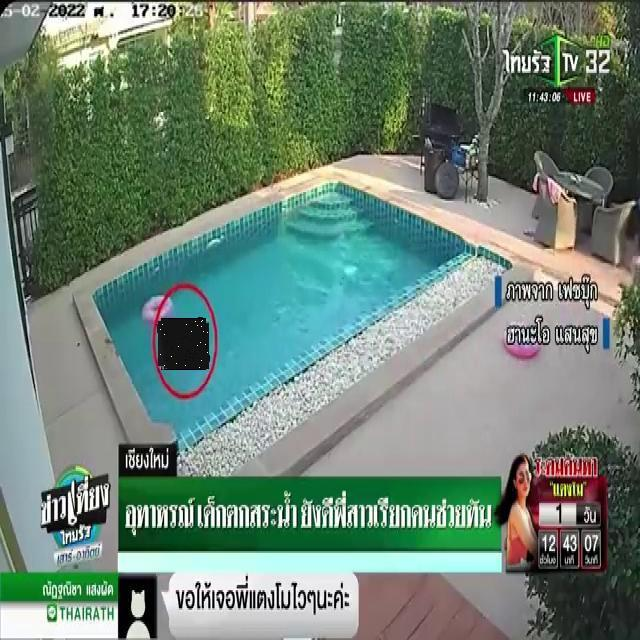Out of Water: (158, 319, 209, 369)
